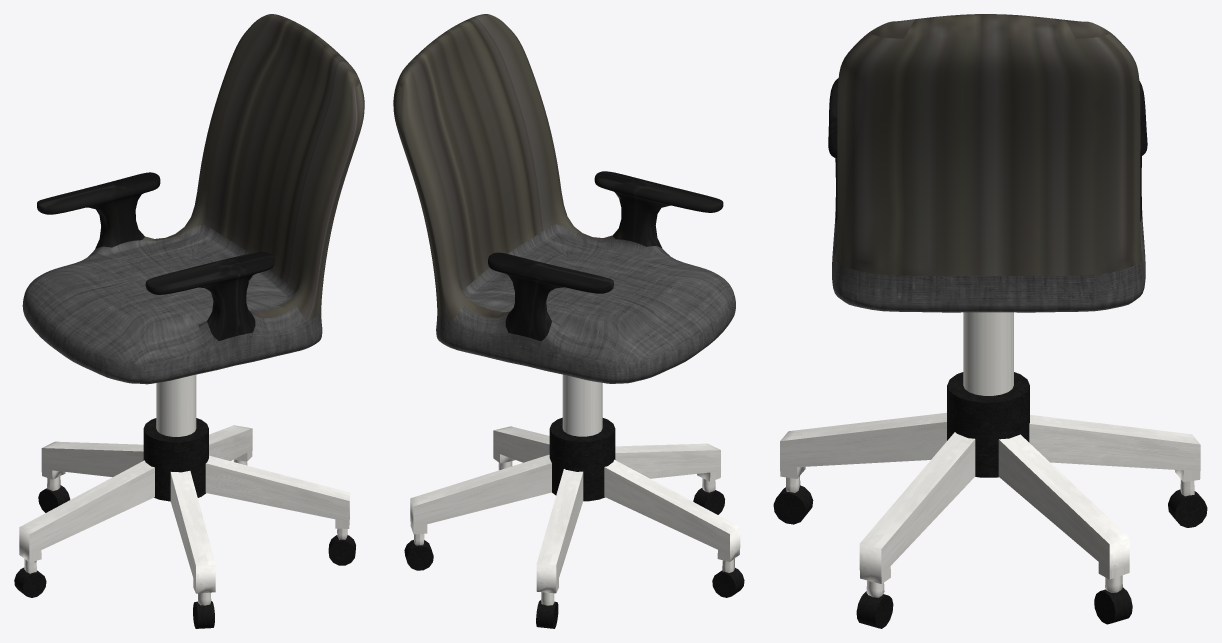
Rendered from Silla-escritorio.fbx.
3 views of the same model, side by side, from view 1: azimuth 30°, elevation 25°; view 2: azimuth 150°, elevation 25°; view 3: azimuth 270°, elevation 25° (orthographic). The views are drawn at different scales.
Visible parts, largest first — view 1: Cube, Cylinder, Cube.001, Cube.003, Cube.002, Cube.005, Cube.004, Cylinder.001, Cylinder.003, Cylinder.005, Cylinder.002; view 2: Cube, Cylinder, Cube.001, Cube.004, Cube.005, Cube.002, Cube.003, Cylinder.001, Cylinder.004, Cylinder.002, Cylinder.005; view 3: Cube, Cylinder, Cube.004, Cube.005, Cube.002, Cube.003, Cylinder.002, Cylinder.005, Cylinder.004, Cylinder.003.
Part boxes in pixels (bbox=[...]): Cube: bbox=[22, 14, 364, 384]; Cylinder: bbox=[143, 374, 208, 501]; Cube.001: bbox=[19, 460, 154, 573]; Cube.003: bbox=[205, 455, 349, 539]; Cube.002: bbox=[170, 471, 215, 605]; Cube.005: bbox=[41, 441, 143, 490]; Cube.004: bbox=[209, 425, 252, 465]; Cylinder.001: bbox=[14, 567, 46, 597]; Cylinder.003: bbox=[328, 535, 355, 565]; Cylinder.005: bbox=[38, 485, 70, 512]; Cylinder.002: bbox=[193, 601, 214, 628]; Cube: bbox=[393, 14, 735, 383]; Cylinder: bbox=[549, 374, 615, 501]; Cube.001: bbox=[604, 459, 740, 572]; Cube.004: bbox=[410, 454, 551, 545]; Cube.005: bbox=[536, 469, 583, 605]; Cube.002: bbox=[615, 443, 720, 492]; Cube.003: bbox=[493, 426, 549, 470]; Cylinder.001: bbox=[712, 568, 744, 597]; Cylinder.004: bbox=[404, 540, 433, 570]; Cylinder.002: bbox=[693, 488, 724, 514]; Cylinder.005: bbox=[536, 600, 558, 628]; Cube: bbox=[828, 14, 1147, 312]; Cylinder: bbox=[947, 312, 1029, 477]; Cube.004: bbox=[998, 434, 1129, 592]; Cube.005: bbox=[1029, 414, 1200, 496]; Cube.002: bbox=[780, 412, 946, 492]; Cube.003: bbox=[859, 432, 975, 597]; Cylinder.002: bbox=[773, 485, 813, 524]; Cylinder.005: bbox=[1168, 489, 1207, 527]; Cylinder.004: bbox=[1094, 587, 1132, 624]; Cylinder.003: bbox=[856, 591, 893, 628].
Bounding box in the file's own units: 77.79 × 119 × 75.54.
Materials: 5 (5 with a texture image).
